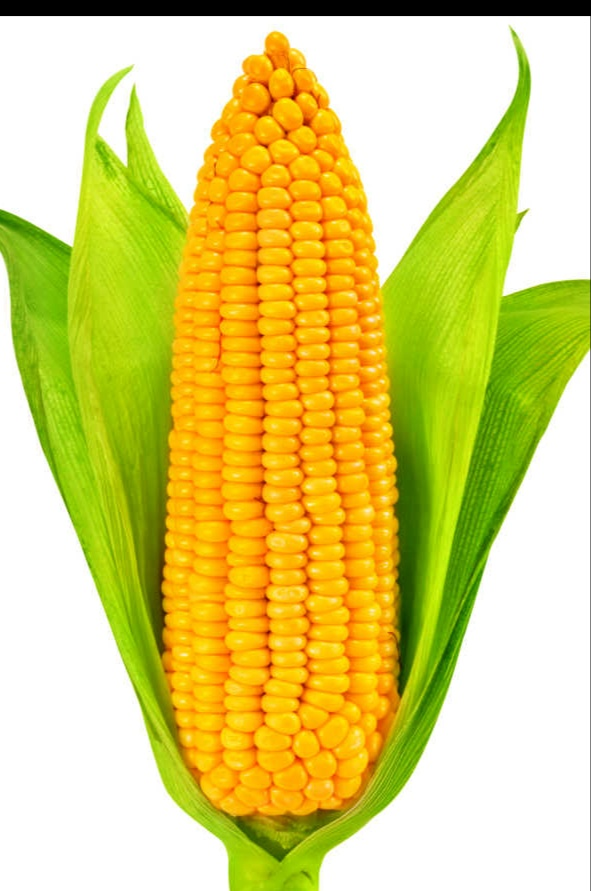corn: (142, 20, 397, 847)
